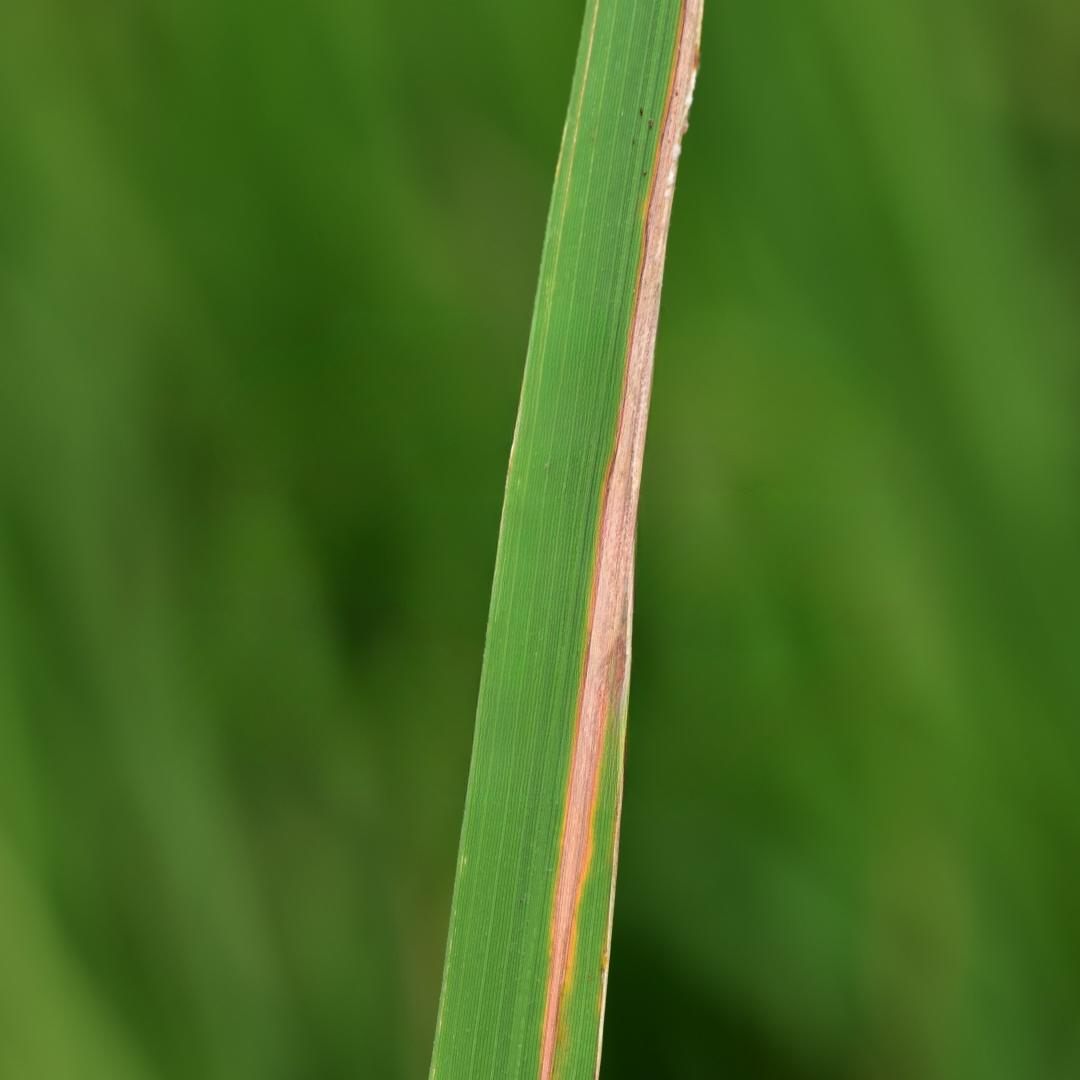BLB: (538, 166, 676, 1079), (654, 0, 703, 170)
LEAF: (429, 0, 704, 1079)
